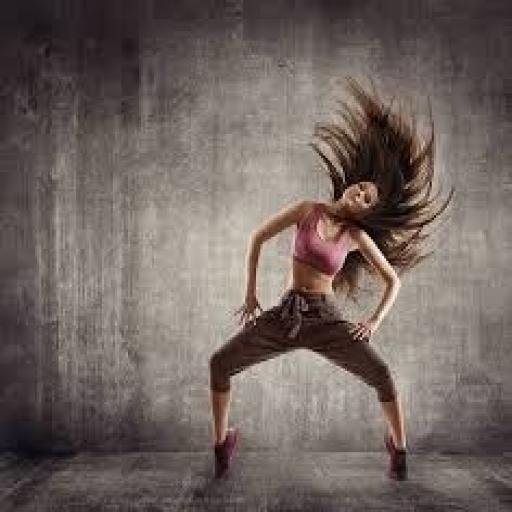dancing: (204, 74, 458, 486)
